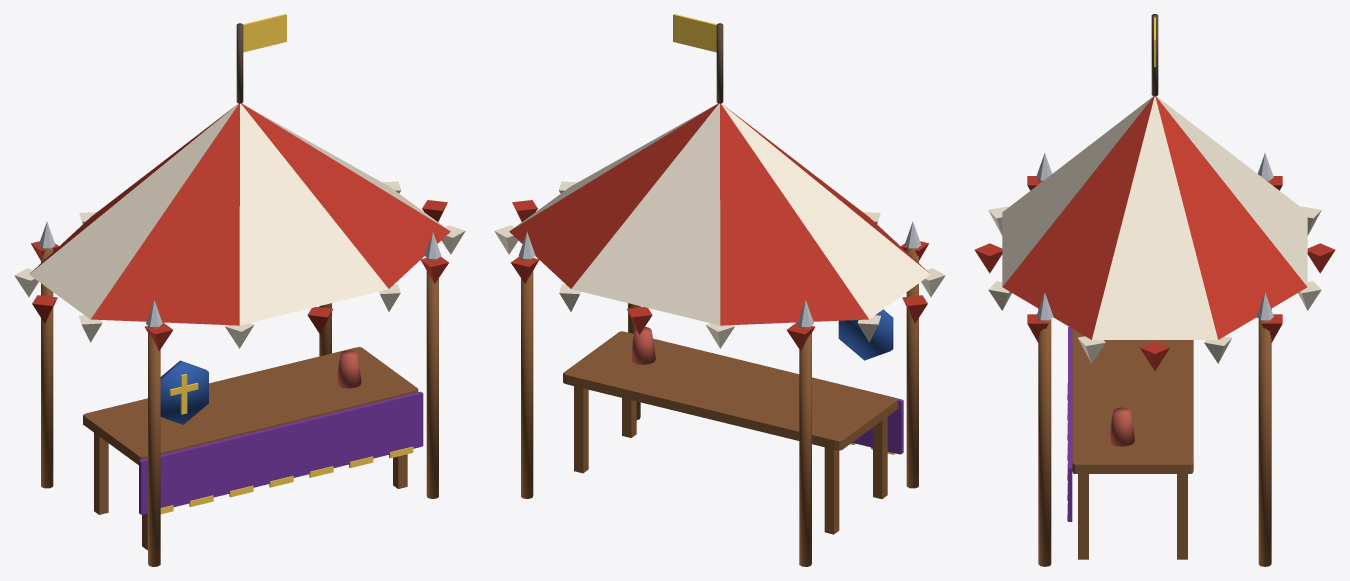
The model's file is stanek-castle.glb.
3 views of the same model, side by side, from view 1: azimuth 30°, elevation 25°; view 2: azimuth 150°, elevation 25°; view 3: azimuth 270°, elevation 25° (orthographic). The views are drawn at different scales.
Parts seen in each view (by area): view 1: stanek-castle; view 2: stanek-castle; view 3: stanek-castle.
Boxes of the visible parts, <box> form: stanek-castle: <box>14,14,465,566</box>; stanek-castle: <box>494,14,945,566</box>; stanek-castle: <box>974,14,1335,566</box>.
Size of the model in its own units: 4.48 by 4.8 by 3.28.
Materials: 1 (1 with a texture image).
